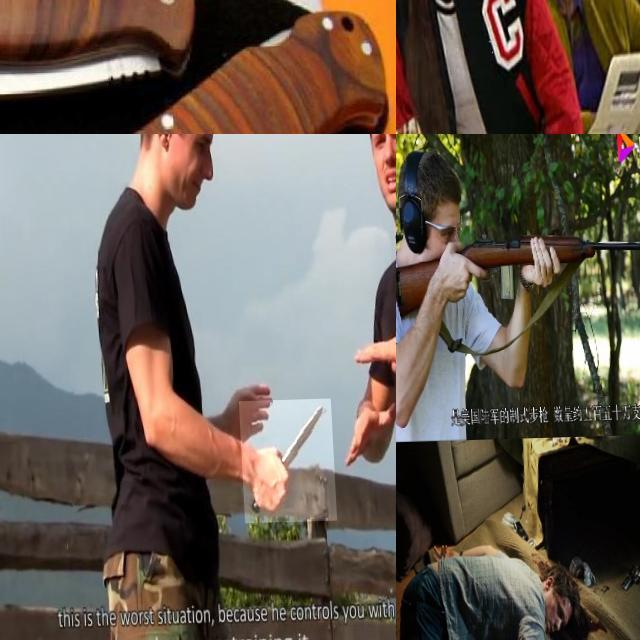-: (236, 401, 332, 525)
gun-knife-thesis - v11 Yolov5 augmented: (396, 225, 640, 327), (396, 211, 445, 305), (610, 557, 640, 597), (396, 563, 411, 637)
